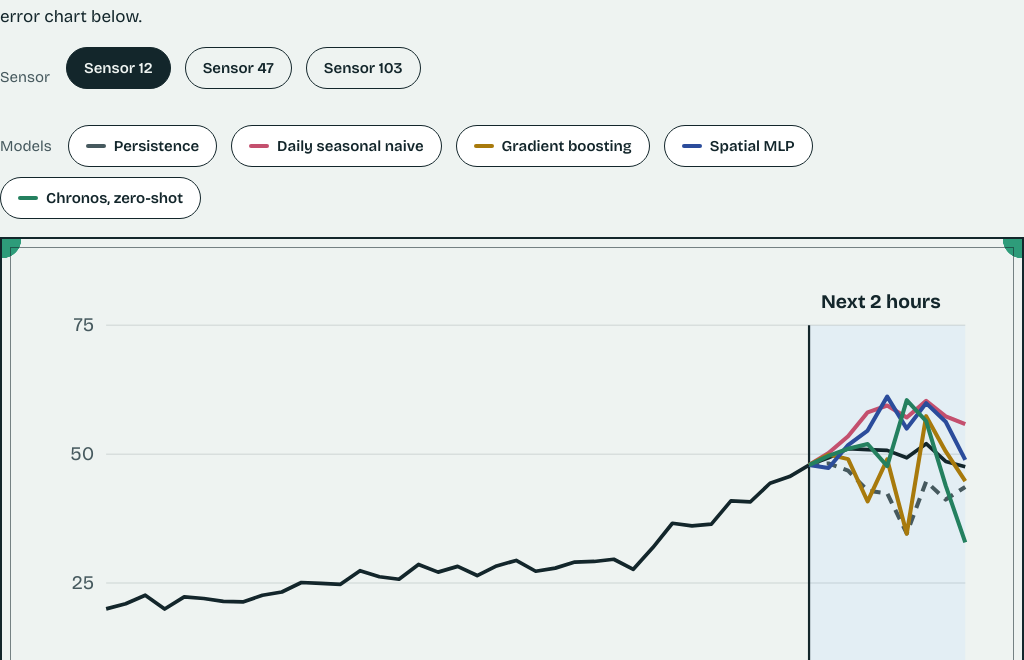
Test case: ForecastFigure › switches sensor and updates the window error list
Click the tab "Sensor 47". click: [238, 68]
box: [185, 47, 292, 89]
(page scrolled)
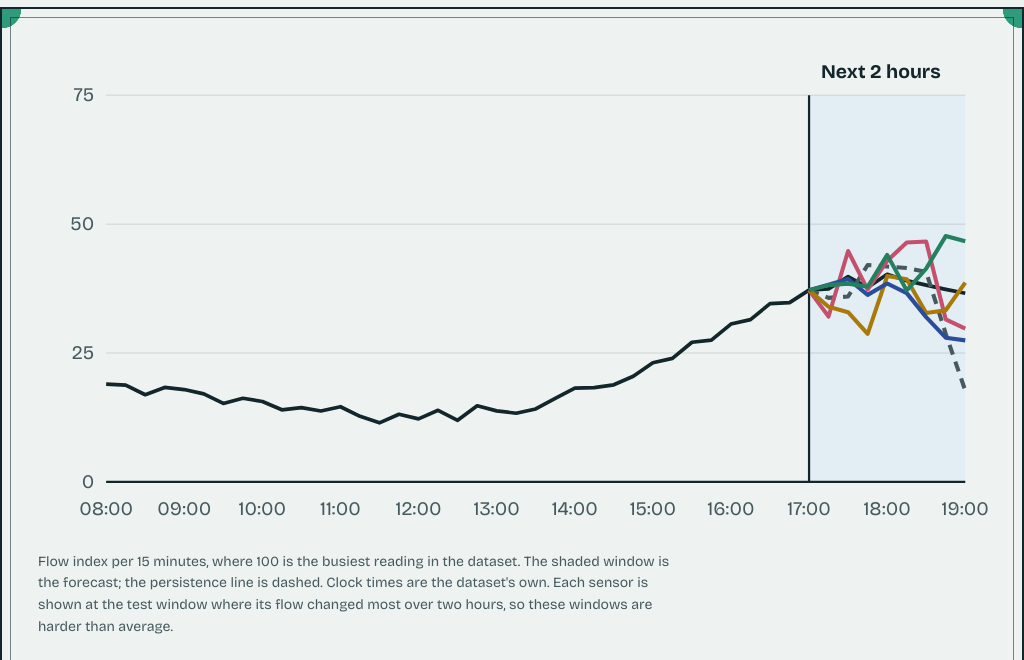
Result: the picture named "sensor 47" is shown
